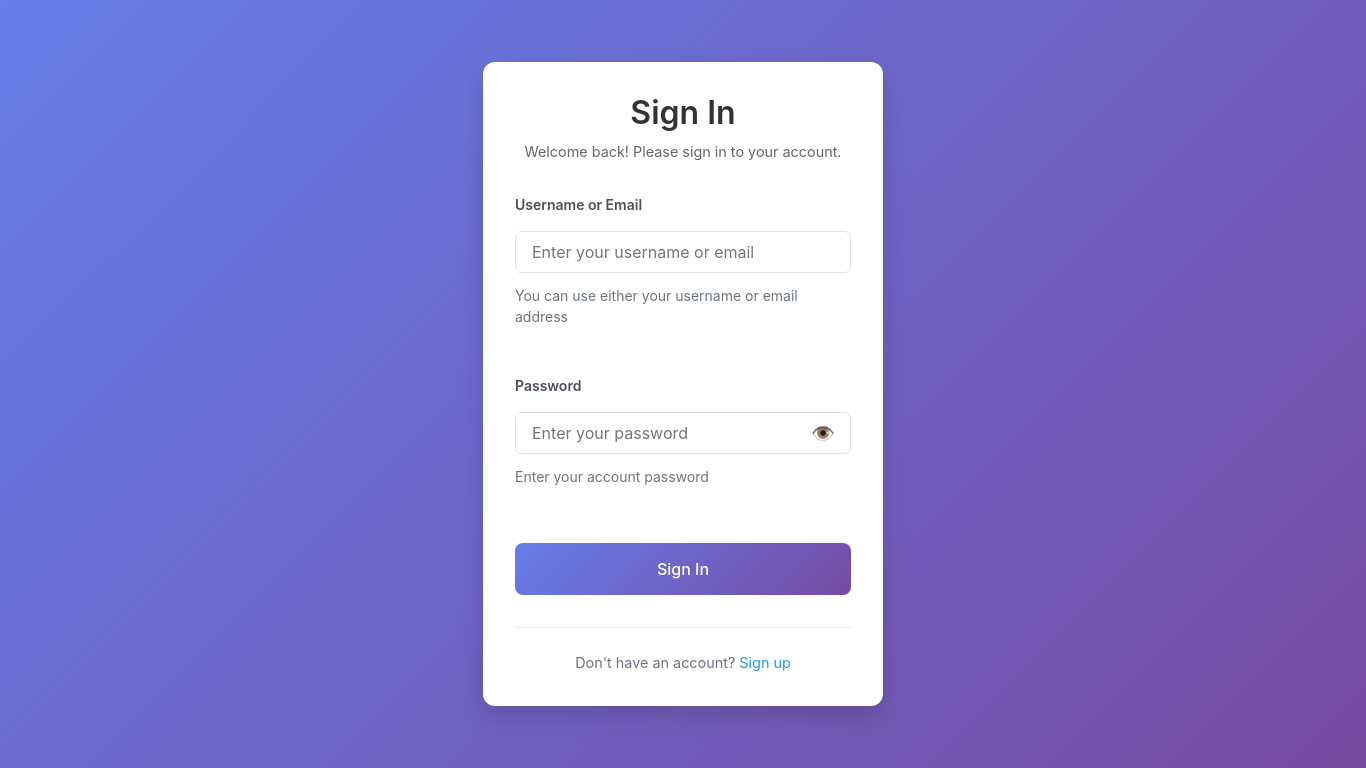
Test case: Login Component › validates minimum username length
Type "ab" into the field labelled "Username or Email" at (683, 252), box [515,231,851,273]
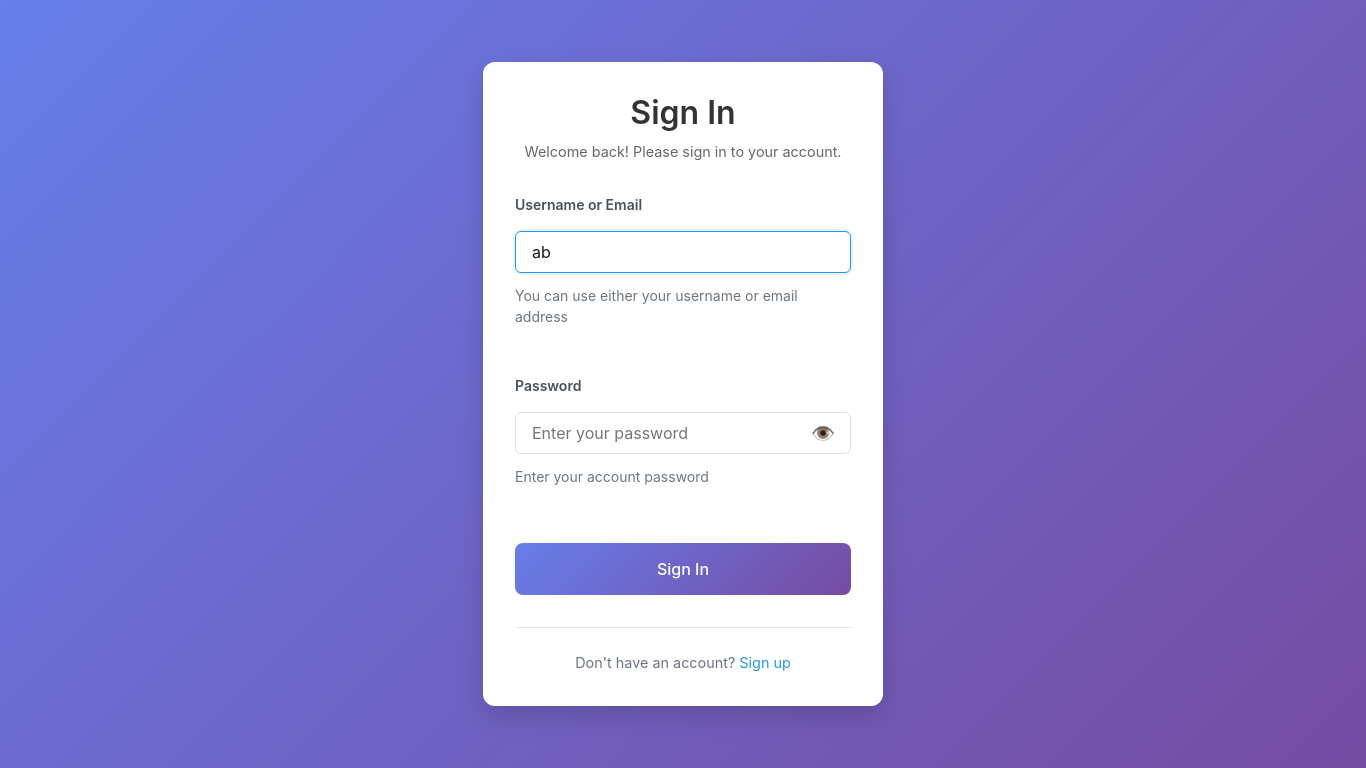
Click the button "Sign In" at (683, 569), box [515,543,851,595]
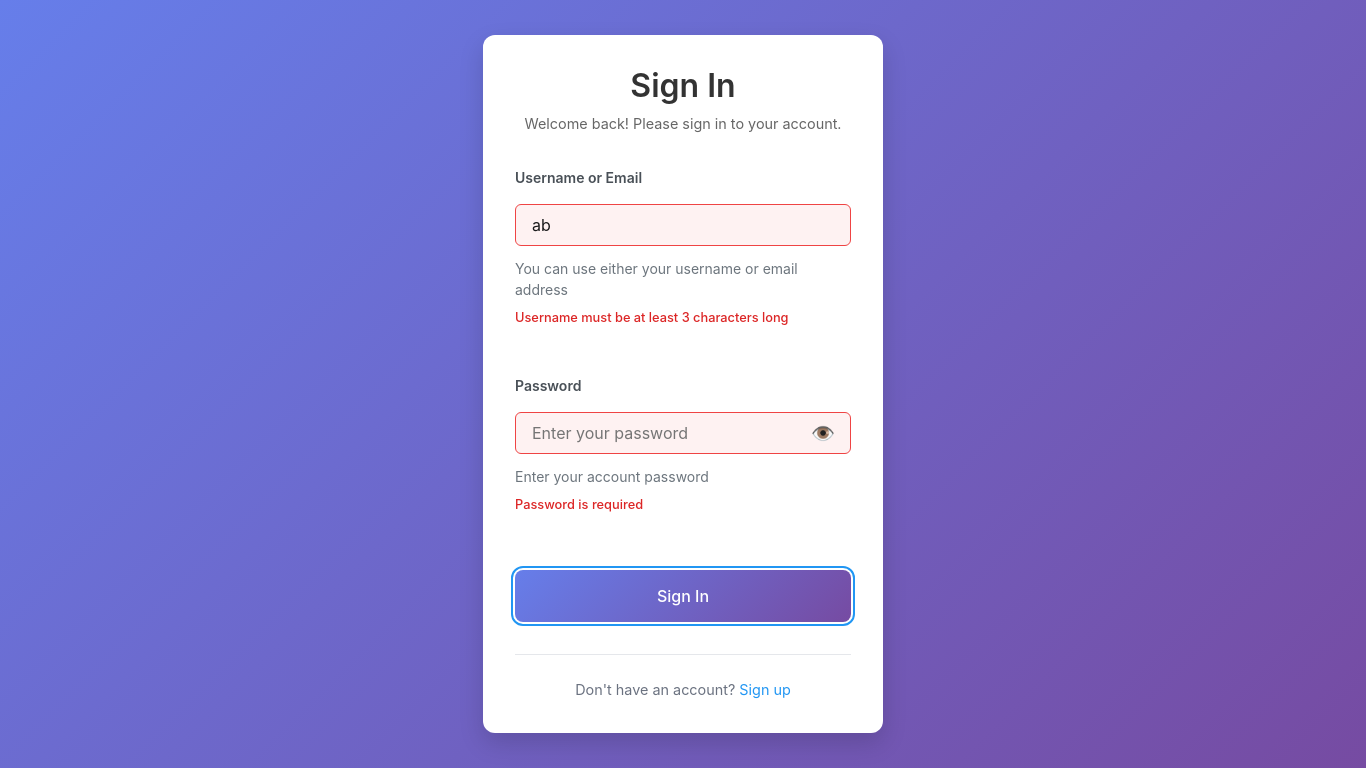
Now the text "Username must be at least 3 characters long" is shown, box [515,310,789,325]
